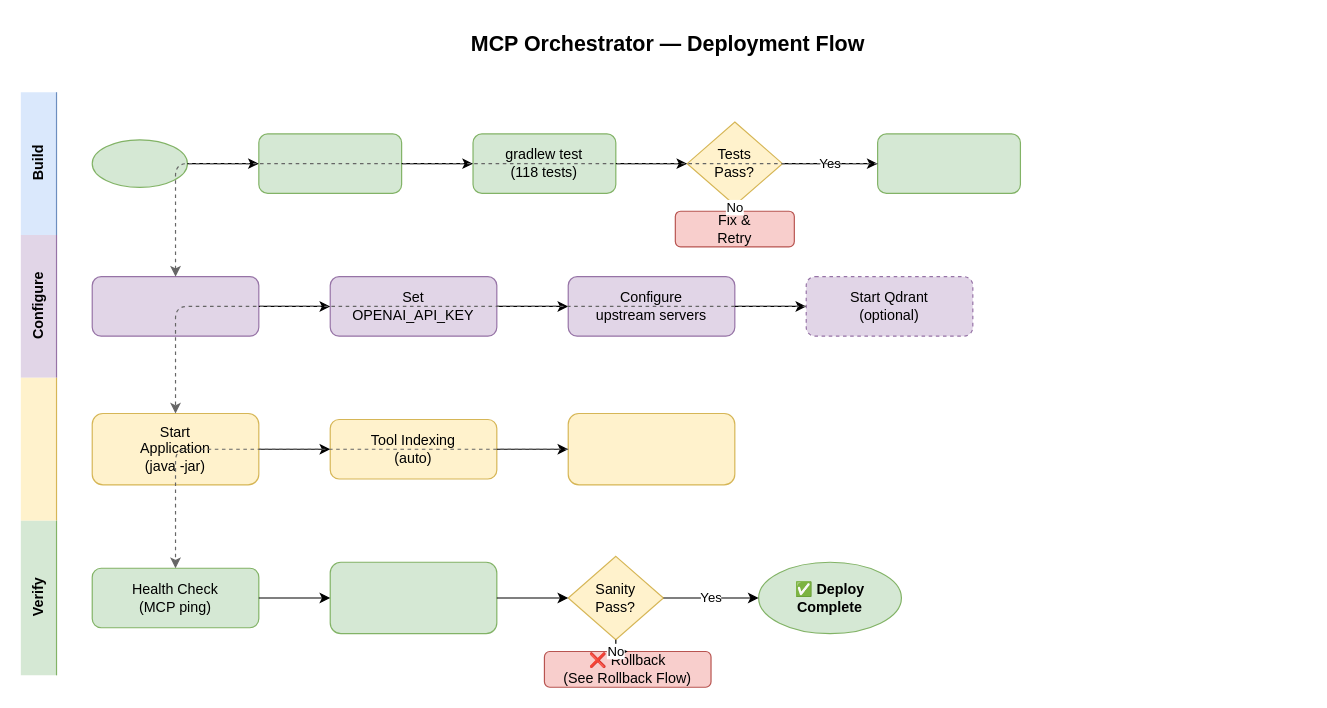
Some shapes in this 1327 by 708 pixel diagram are drawn without their labels. Here are the shapes that lost their labels. From the top down, the box of each, then its label:
(91, 139, 187, 187): Start
(258, 133, 402, 193): gradlew clean build
(876, 133, 1020, 193): Fat JAR Ready
(91, 275, 259, 336): Copy JAR + application.yml
(567, 412, 735, 485): Upstream Connections Established
(20, 377, 1306, 521): Deploy
(329, 561, 497, 634): Smoke Tests (find_tools + execute)
